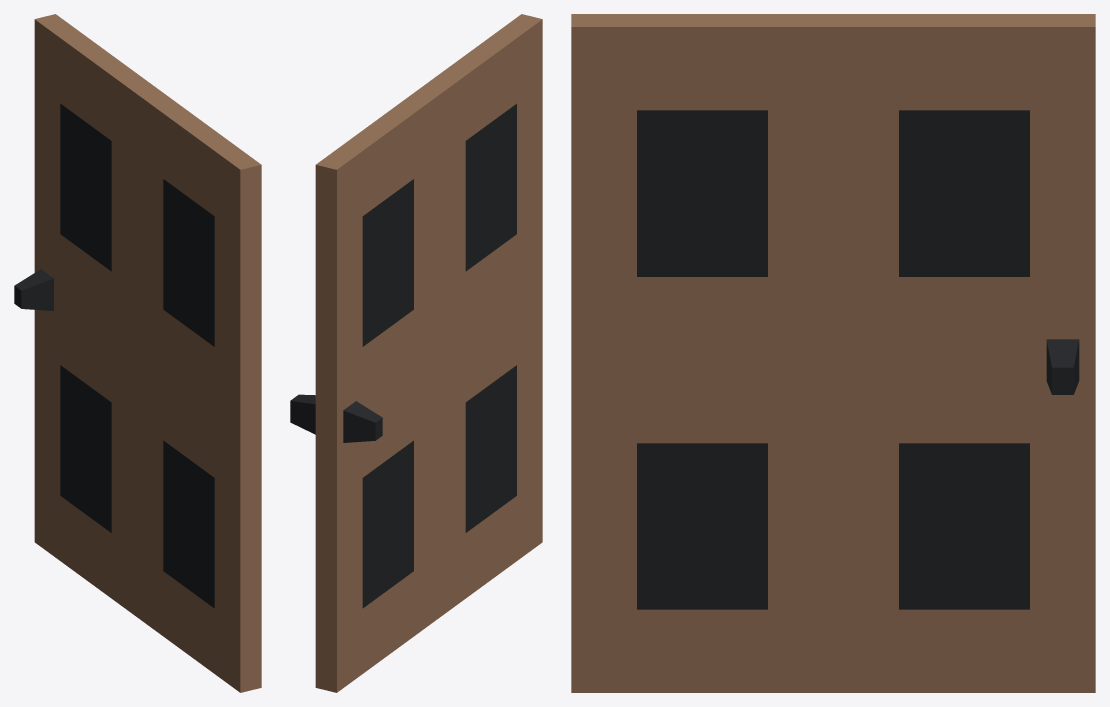
The model's file is door.glb.
The picture shows the model from 3 angles, left to right: view 1: azimuth 30°, elevation 25°; view 2: azimuth 150°, elevation 25°; view 3: azimuth 270°, elevation 25°; orthographic projection. The views are drawn at different scales.
Visible parts, largest first — view 1: Cube; view 2: Cube; view 3: Cube.
Boxes of the visible parts, left/top/right/bottom form: Cube: left=14, top=14, right=261, bottom=692; Cube: left=290, top=14, right=542, bottom=692; Cube: left=571, top=14, right=1095, bottom=692.
Size of the model in its own units: 0.2125 by 1.25 by 0.8939.
1 material, 1 textured.
